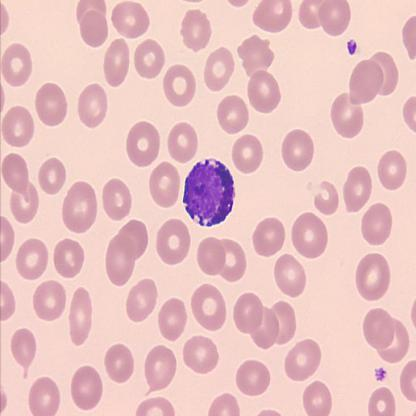Basophil: (181, 155, 236, 229)
